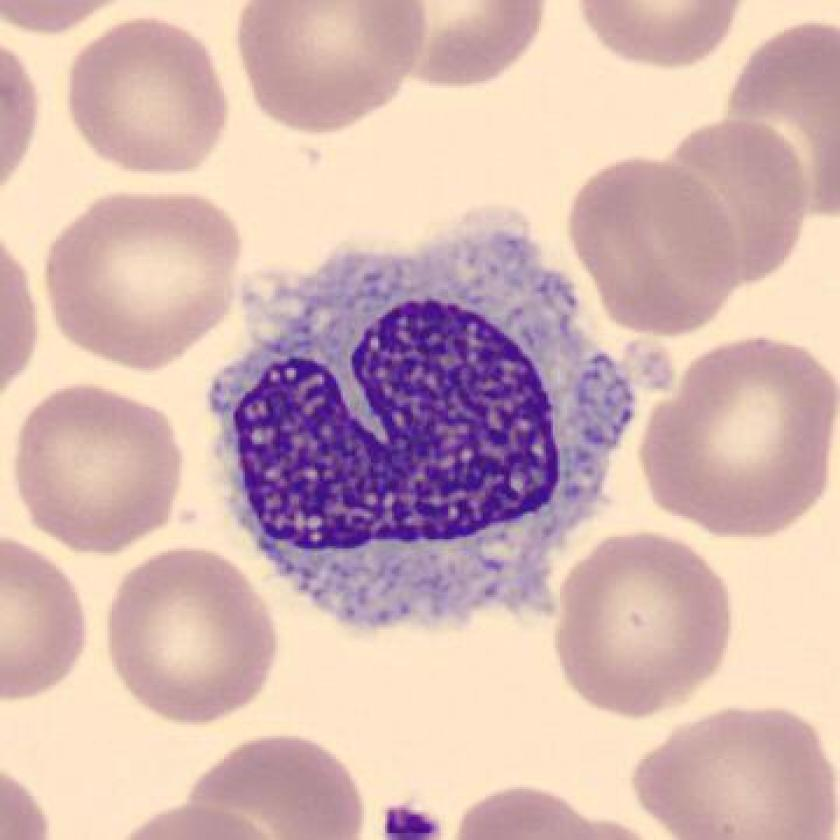monocyte: (200, 193, 655, 649), (734, 621, 736, 624)
